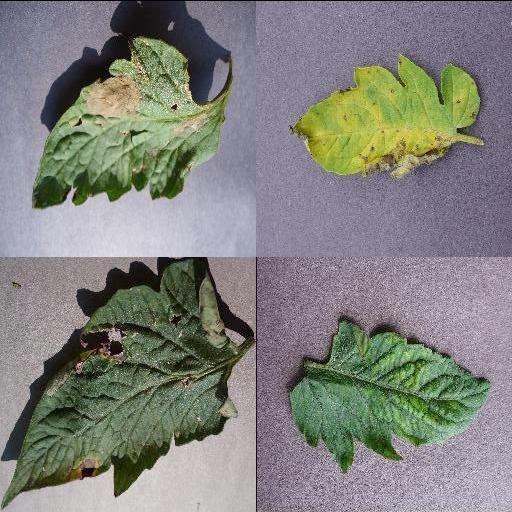Early Blight: (2, 258, 238, 510)
Late Blight: (27, 33, 225, 207)
Mosaic Virus: (286, 318, 492, 475)
Septoria: (287, 48, 481, 177)
